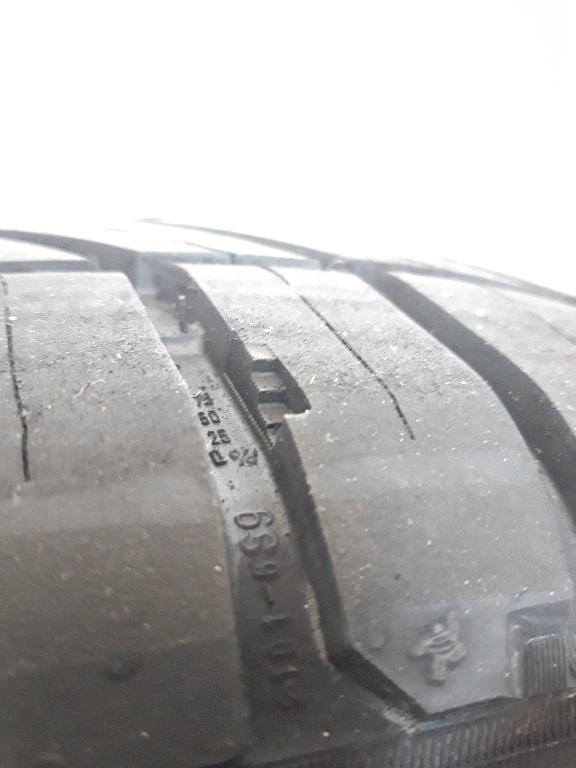temoin:75: (230, 338, 322, 459)
